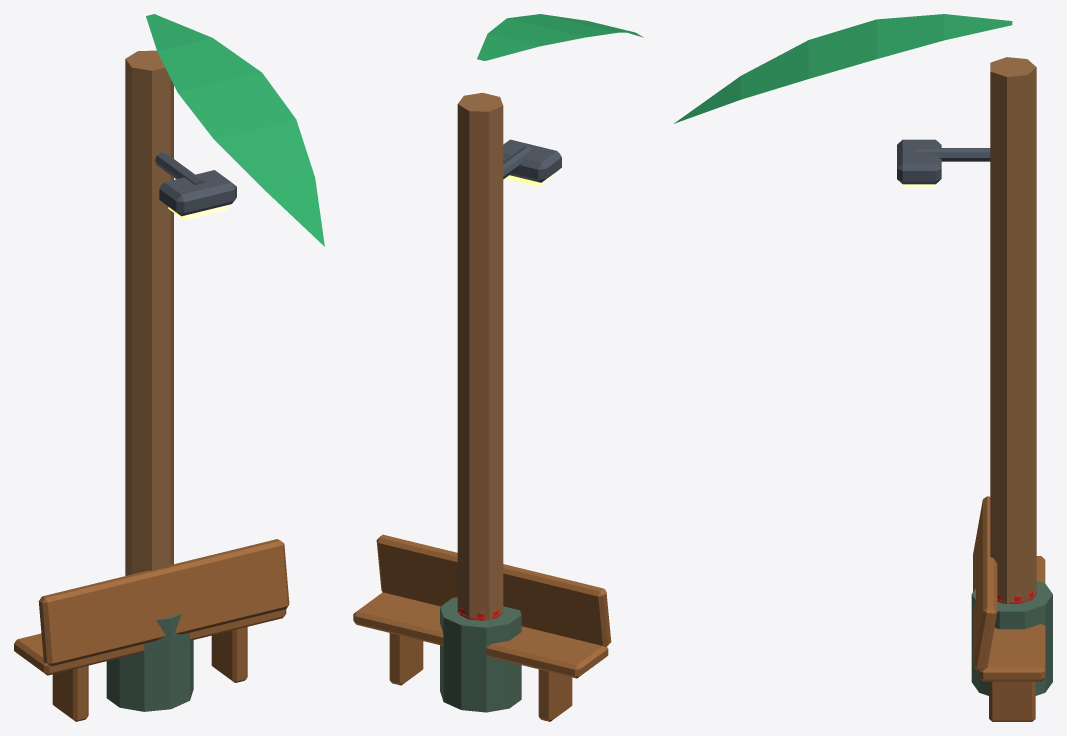
File: street-props.glb
3 views of the same model, side by side, from view 1: azimuth 30°, elevation 25°; view 2: azimuth 150°, elevation 25°; view 3: azimuth 270°, elevation 25° (orthographic). The views are drawn at different scales.
Visible parts, largest first — view 1: prop_palm_trunk, prop_bench_mesh, prop_palm_frond, prop_bin_mesh, prop_streetlight_pole; view 2: prop_palm_trunk, prop_bench_mesh, prop_bin_mesh, prop_palm_frond, prop_streetlight_pole; view 3: prop_palm_trunk, prop_palm_frond, prop_bench_mesh, prop_bin_mesh, prop_streetlight_pole.
Boxes of the visible parts, box(x1,y1,x2,y2) form: prop_palm_trunk: box(125, 50, 173, 575); prop_bench_mesh: box(14, 539, 289, 721); prop_palm_frond: box(146, 14, 324, 246); prop_bin_mesh: box(106, 614, 193, 711); prop_streetlight_pole: box(155, 152, 236, 216); prop_palm_trunk: box(457, 92, 503, 619); prop_bench_mesh: box(353, 534, 611, 721); prop_bin_mesh: box(440, 597, 521, 712); prop_palm_frond: box(477, 14, 643, 60); prop_streetlight_pole: box(503, 139, 561, 182); prop_palm_trunk: box(990, 57, 1036, 603); prop_palm_frond: box(674, 14, 1012, 123); prop_bench_mesh: box(973, 496, 1045, 721); prop_bin_mesh: box(971, 580, 1052, 695); prop_streetlight_pole: box(897, 139, 990, 184).
Size of the model in its own units: 2.8 by 7.5 by 3.92.
